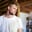face: (7, 3, 17, 15)
